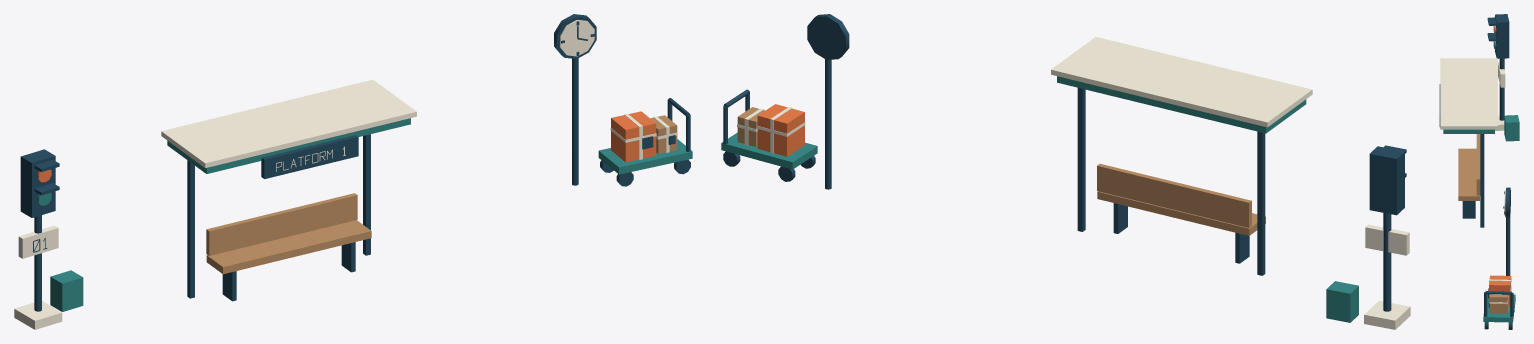
Rendered from amtrak.glb.
3 views of the same model, side by side, from view 1: azimuth 30°, elevation 25°; view 2: azimuth 150°, elevation 25°; view 3: azimuth 270°, elevation 25° (orthographic). The views are drawn at different scales.
Parts seen in each view (by area): view 1: static_detail_ivory, static_detail_navy, static_detail_wood, static_detail_teal, static_detail_orange; view 2: static_detail_ivory, static_detail_navy, static_detail_wood, static_detail_teal, static_detail_orange; view 3: static_detail_ivory, static_detail_navy, static_detail_wood, static_detail_teal, static_detail_orange.
Part boxes in pixels (left/top/right/bottom): static_detail_ivory: left=14, top=20, right=677, bottom=329; static_detail_navy: left=20, top=14, right=690, bottom=311; static_detail_wood: left=206, top=115, right=677, bottom=274; static_detail_teal: left=37, top=118, right=692, bottom=311; static_detail_orange: left=37, top=111, right=656, bottom=182; static_detail_ivory: left=737, top=37, right=1410, bottom=329; static_detail_navy: left=723, top=14, right=1406, bottom=311; static_detail_wood: left=737, top=107, right=1265, bottom=235; static_detail_teal: left=721, top=76, right=1358, bottom=322; static_detail_orange: left=757, top=104, right=804, bottom=156; static_detail_ivory: left=1440, top=58, right=1512, bottom=311; static_detail_navy: left=1439, top=14, right=1514, bottom=329; static_detail_wood: left=1458, top=134, right=1507, bottom=313; static_detail_teal: left=1443, top=41, right=1519, bottom=322; static_detail_orange: left=1489, top=25, right=1511, bottom=306.
Bounding box in the file's own units: 10.69 × 2.61 × 1.7.
